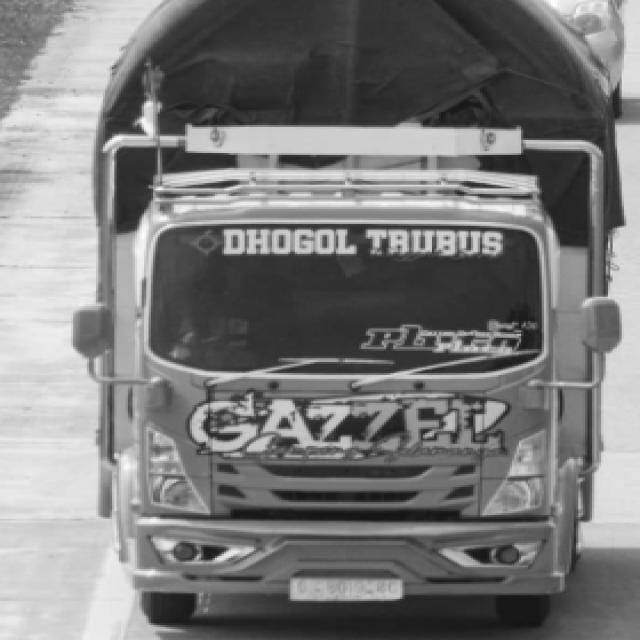Truck: (64, 0, 626, 629)
